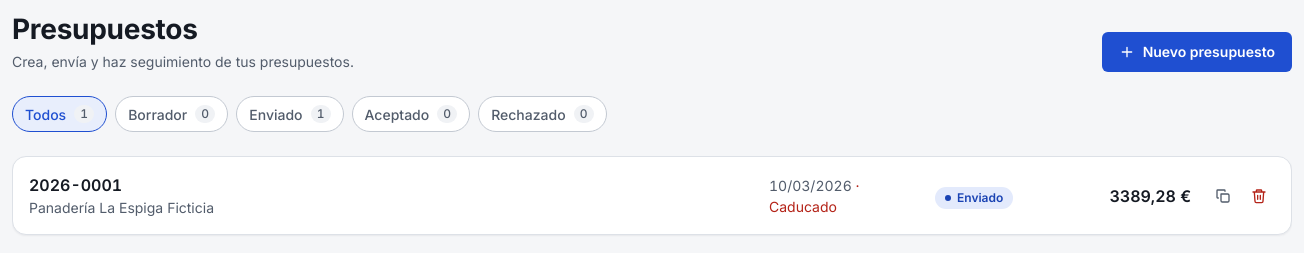
Test: QuotesPage › filters by status
What coordinates should you click on to do the following:
click the button "Aceptado 0"
I would click on:
 (411, 114)
Its box is top-left (352, 96), bottom-right (470, 132).
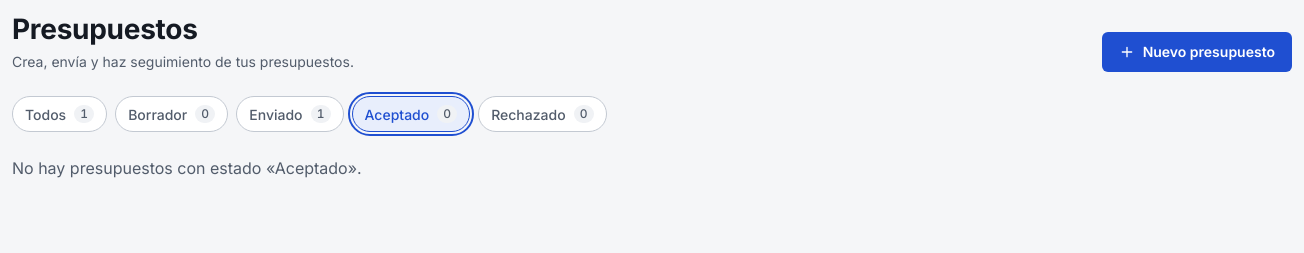
Check: the link "2026-0001" is gone
What coordinates should you click on to do the following:
click the button "Todos 1"
I would click on:
 (60, 114)
Its box is top-left (12, 96), bottom-right (107, 132).
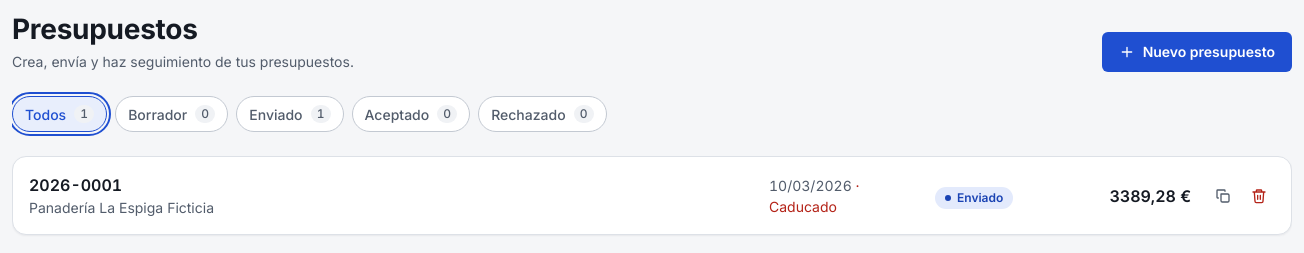
Check: the link "2026-0001 Panadería La Espiga Ficticia" is shown, box top-left (29, 175), bottom-right (214, 216)
